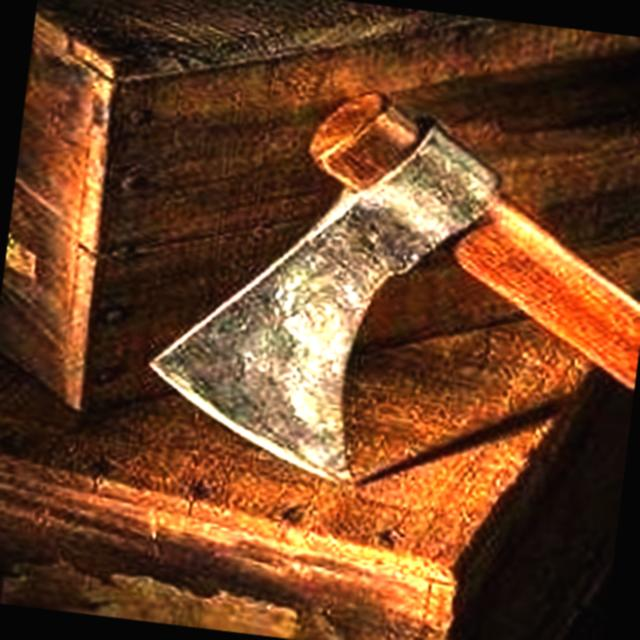ax: (133, 60, 640, 529)
